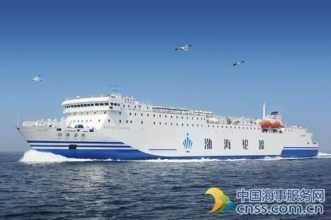youlun: (17, 92, 318, 160)
